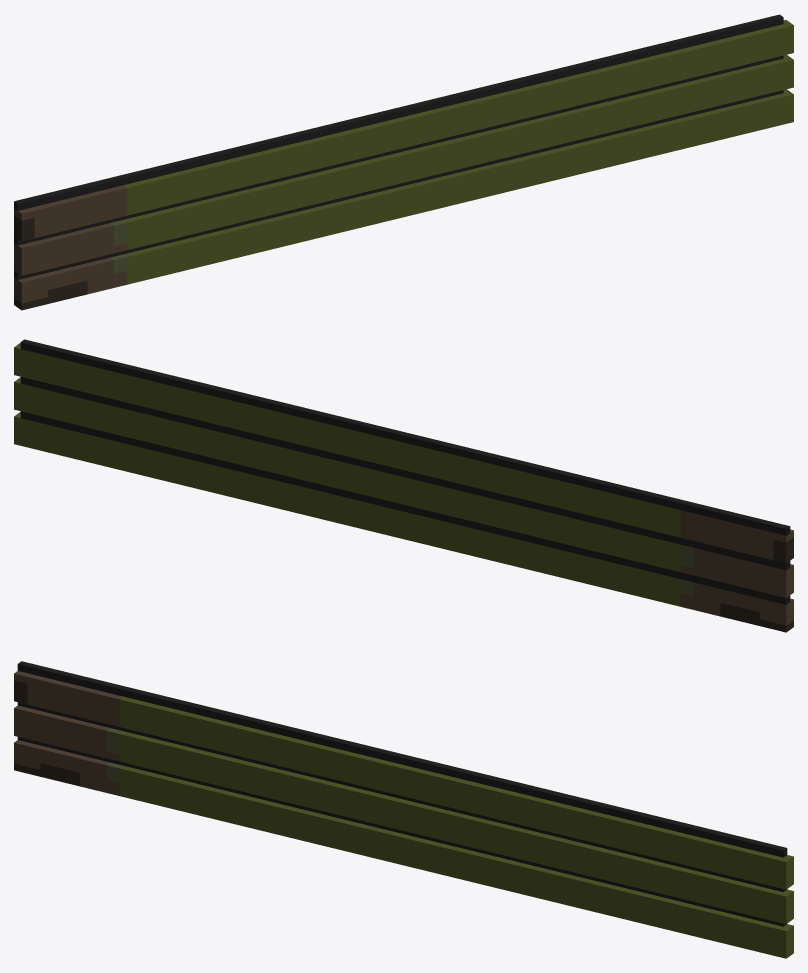
The model's file is abandoned_army_truck_bed_far.glb.
The picture shows the model from 3 angles, top to bottom: view 1: azimuth 30°, elevation 25°; view 2: azimuth 150°, elevation 25°; view 3: azimuth 330°, elevation 25°; orthographic projection.
Parts seen in each view (by area): view 1: body:compound; view 2: body:compound; view 3: body:compound.
Part boxes in pixels (x1=…): body:compound: x1=14, y1=14, x2=793, y2=310; body:compound: x1=14, y1=339, x2=793, y2=632; body:compound: x1=14, y1=661, x2=793, y2=958.
Bounding box in the file's own units: 3.66 × 0.4688 × 0.0625.
